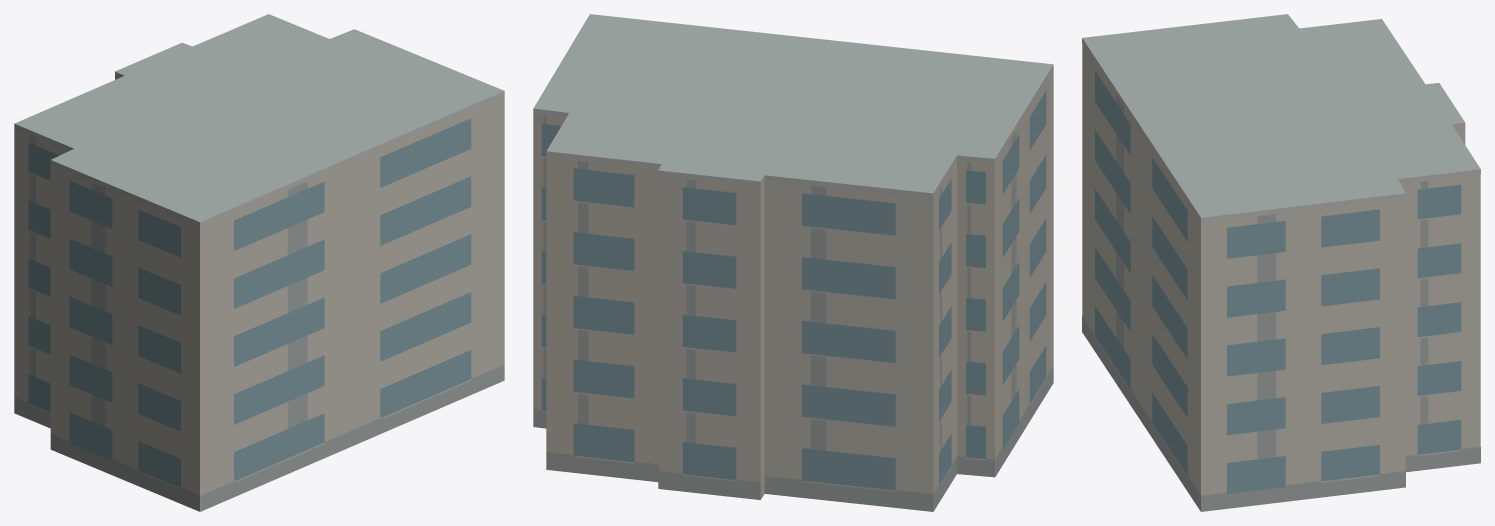
The model's file is survey-upis-32954920.glb.
The picture shows the model from 3 angles, left to right: view 1: azimuth 30°, elevation 25°; view 2: azimuth 150°, elevation 25°; view 3: azimuth 270°, elevation 25°; orthographic projection. The views are drawn at different scales.
Parts seen in each view (by area): view 1: survey-upis-32954920.tmp; view 2: survey-upis-32954920.tmp; view 3: survey-upis-32954920.tmp.
Boxes of the visible parts, x1,y1,x2,y2 form: survey-upis-32954920.tmp: (14,14,504,511); survey-upis-32954920.tmp: (533,14,1053,511); survey-upis-32954920.tmp: (1082,14,1480,511).
Size of the model in its own units: 20.07 by 13.5 by 16.6.
